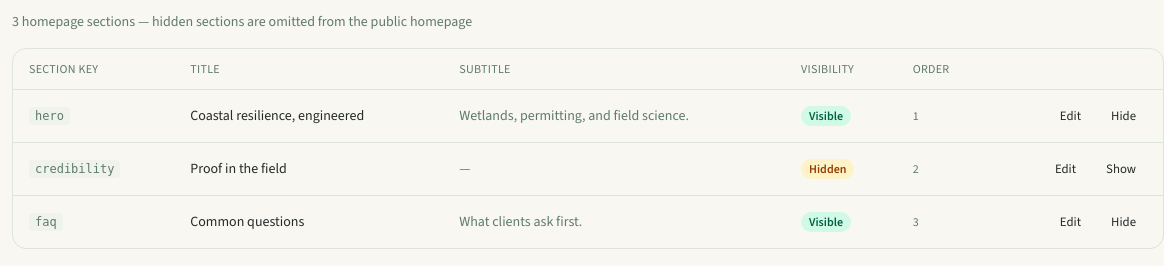
Test case: ContentSectionsTable visibility toggle › flips optimistically, writes through the Server Action, and revalidates
Check: the text "Visible" in the row of "hero" is shown, box 809,108 -> 843,124
Click the button with aria-label "Hide Coastal resilience, engineered": [1124, 116] box 1100,102 -> 1147,130
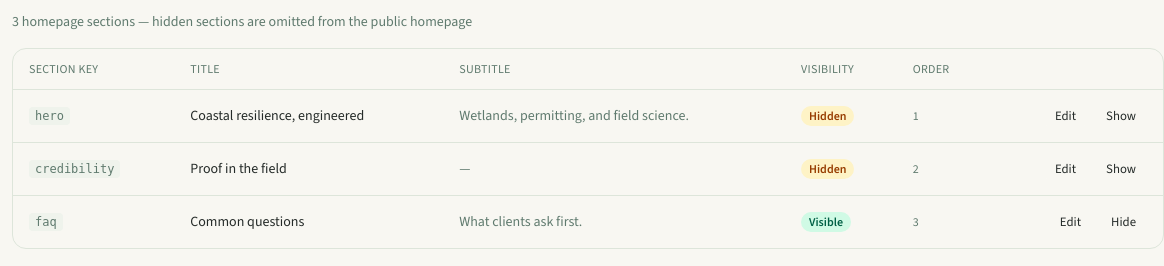
Check: the text "Hidden" in the row of "hero" is shown, box 809,108 -> 846,124
Check: the button with aria-label "Show Coastal resilience, engineered" is shown, box 1095,102 -> 1147,130
